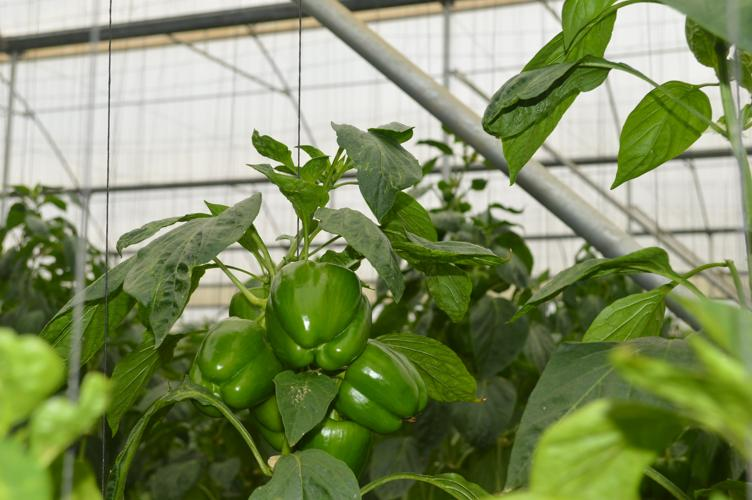BellPepper: (259, 262, 371, 372), (184, 312, 285, 424), (328, 337, 432, 436), (298, 405, 375, 485)
